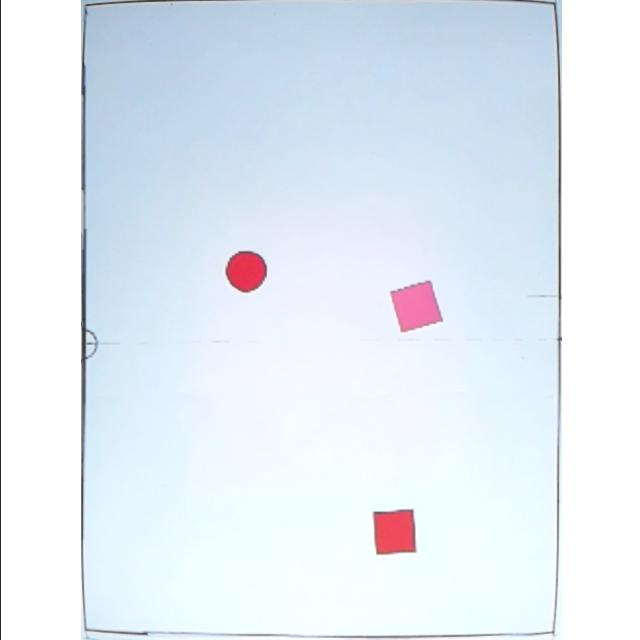pinkSquare: (388, 282, 444, 332)
redCircle: (220, 250, 266, 294)
redSquare: (370, 510, 412, 558)
